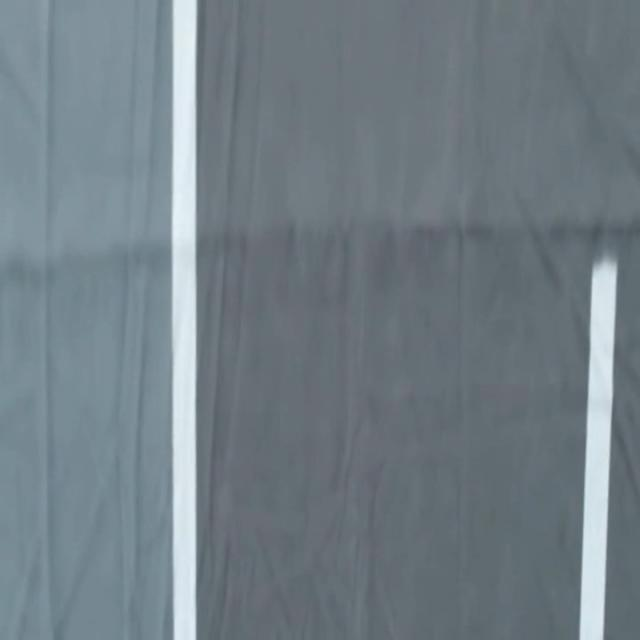center: (579, 255, 617, 639)
left: (172, 0, 196, 639)
